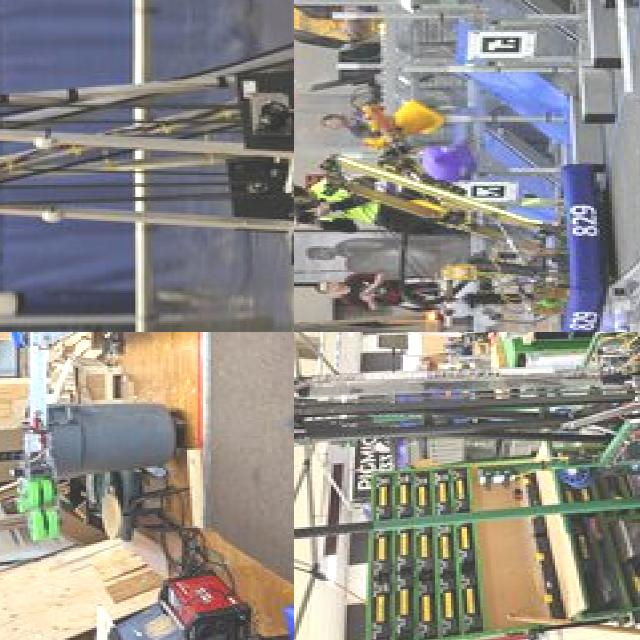FRC-Robots: (0, 0, 294, 332), (294, 120, 628, 332), (2, 332, 294, 559), (294, 332, 640, 523)
